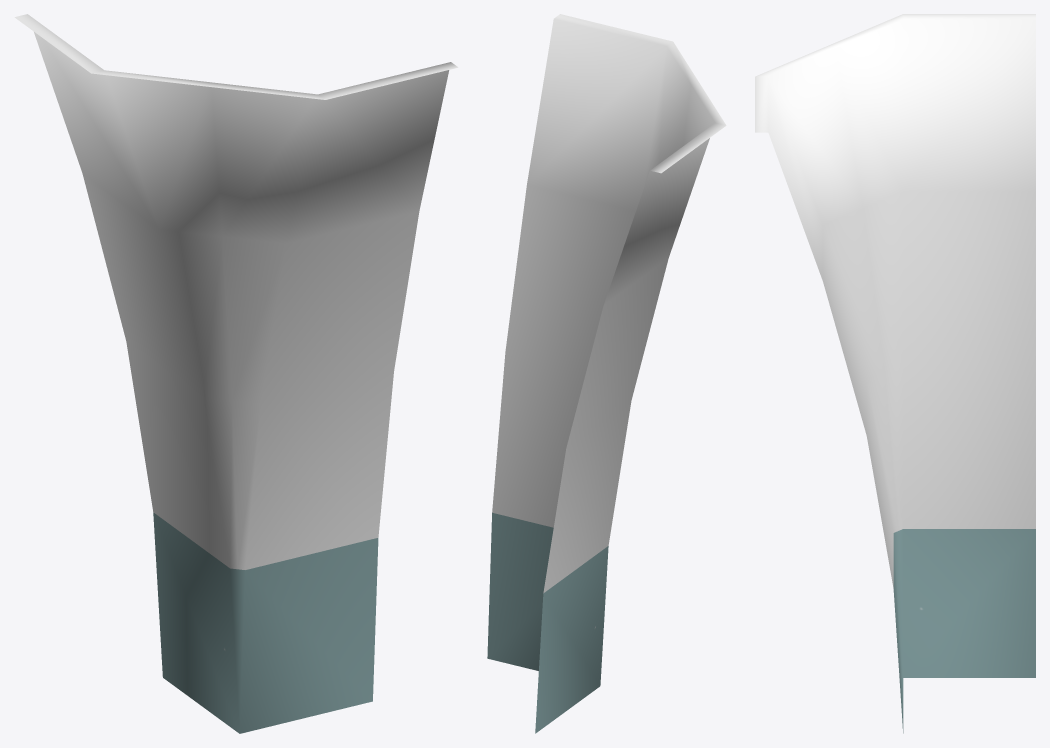
File: wall_corner_test.fbx
3 renders of one model, left to right at view 1: azimuth 30°, elevation 25°; view 2: azimuth 150°, elevation 25°; view 3: azimuth 270°, elevation 25°, orthographic. The views are drawn at different scales.
Visible parts, largest first — view 1: wall_corner_test; view 2: wall_corner_test; view 3: wall_corner_test.
Part boxes in pixels (box(x1,y1,x2,y2)): wall_corner_test: box(14, 14, 458, 733); wall_corner_test: box(487, 14, 726, 733); wall_corner_test: box(755, 14, 1035, 733).
Bounding box in the file's own units: 2.12 × 5 × 2.12.
